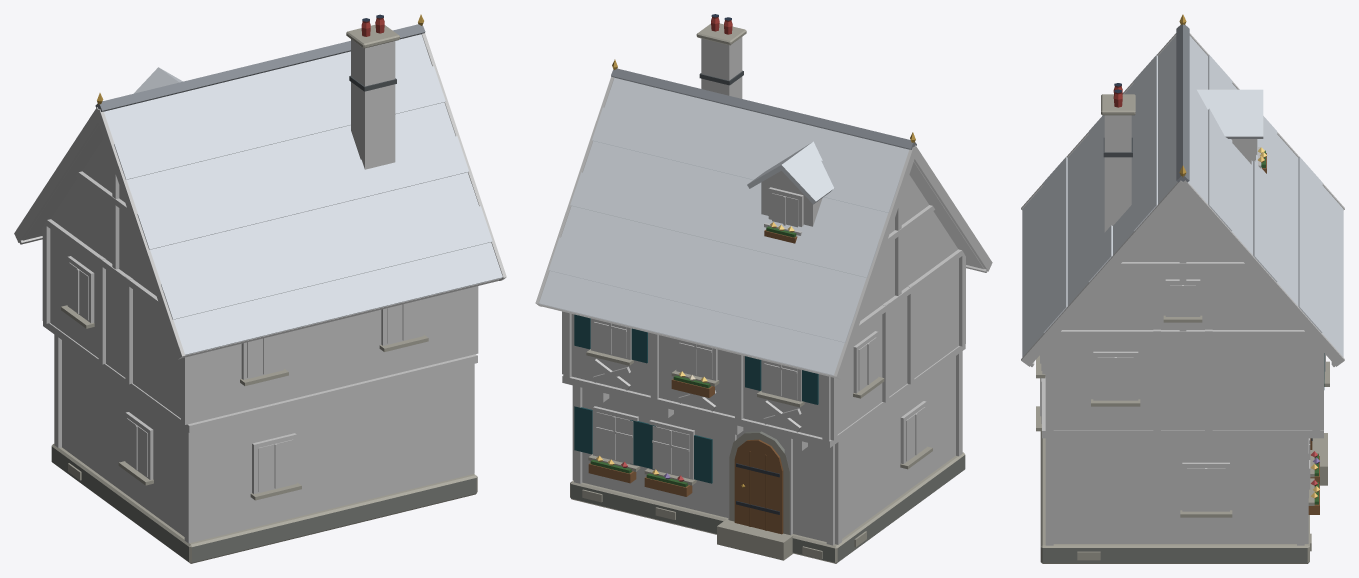
File: TimberHouse.obj
3 renders of one model, left to right at view 1: azimuth 30°, elevation 25°; view 2: azimuth 150°, elevation 25°; view 3: azimuth 270°, elevation 25°, orthographic. The views are drawn at different scales.
Bounding box in the file's own units: 14.08 × 19.02 × 12.51.
